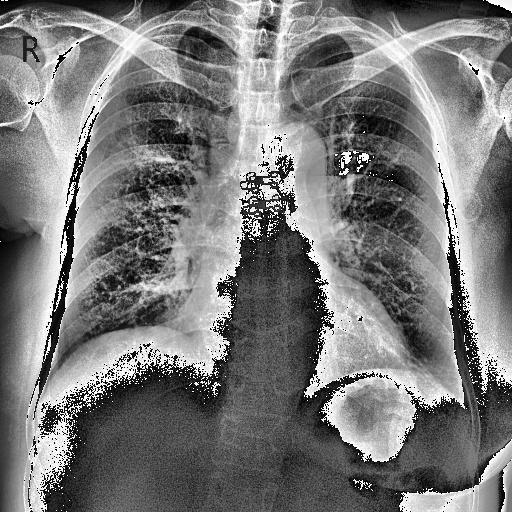0- Aortic enlargement: (234, 123, 326, 202), (274, 123, 328, 205), (276, 123, 330, 189)
3- Cardiomegaly: (174, 288, 411, 394), (174, 284, 409, 373), (177, 286, 413, 370)
